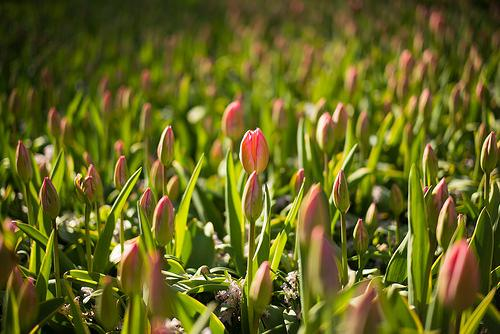tulip: (434, 239, 481, 315), (304, 226, 345, 304), (250, 260, 276, 334), (344, 285, 380, 334), (304, 183, 330, 244), (91, 279, 120, 331), (16, 275, 41, 334), (239, 126, 269, 175), (118, 242, 147, 292), (436, 191, 458, 253), (242, 175, 266, 227), (222, 96, 246, 145), (313, 110, 339, 155), (35, 183, 65, 221), (330, 169, 357, 209), (154, 201, 178, 245), (13, 141, 38, 180), (430, 176, 448, 227), (476, 131, 500, 169), (156, 123, 178, 164), (349, 220, 372, 257), (72, 170, 95, 204), (113, 153, 134, 188), (418, 141, 437, 170), (390, 182, 405, 216), (365, 202, 379, 224)
